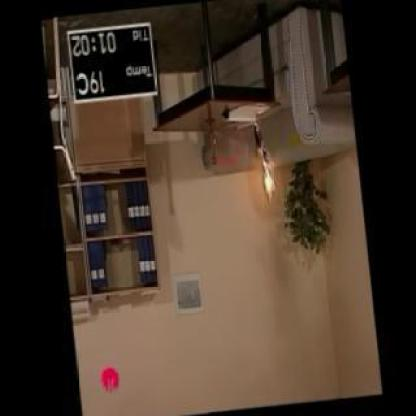Fire: (259, 137, 276, 199)
